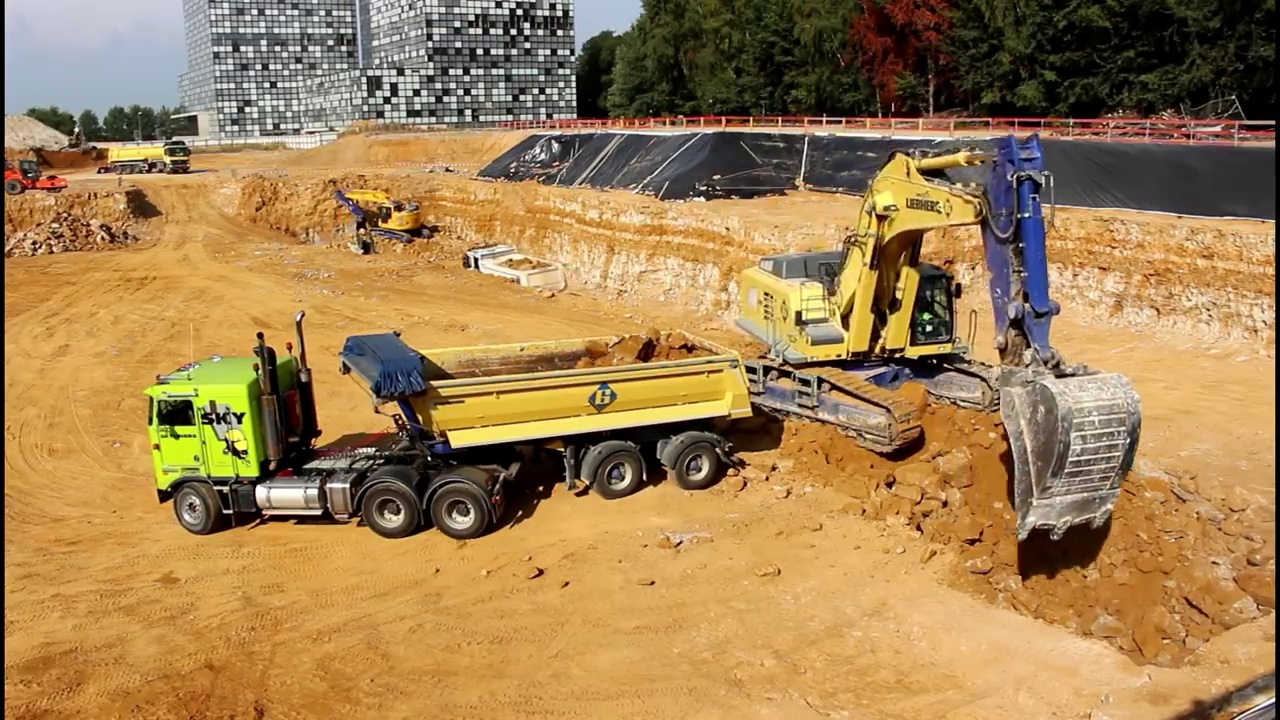compactor: (4, 157, 73, 196)
excavator: (728, 131, 1150, 543), (325, 181, 440, 259), (60, 119, 102, 165)
truck: (140, 307, 757, 547), (461, 238, 576, 316), (101, 138, 192, 178)
